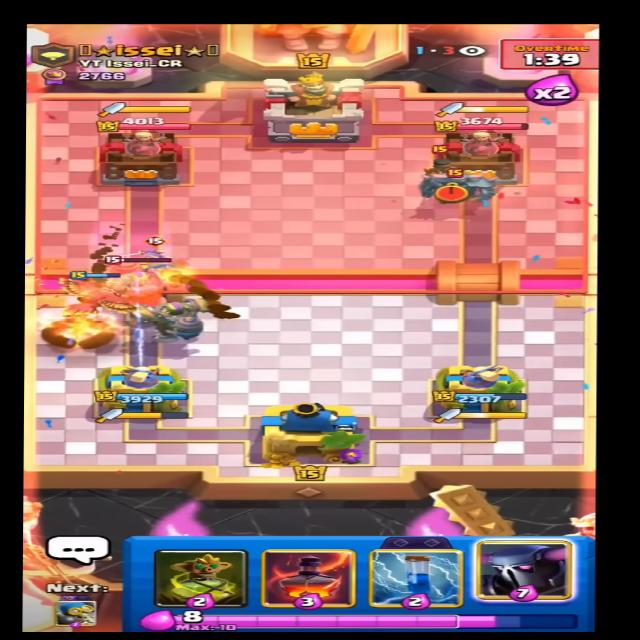evo-knight: (126, 232, 178, 274)
goblin-machine: (90, 248, 179, 308)
pekka: (411, 163, 499, 208)
ram-rider: (417, 144, 465, 182)
